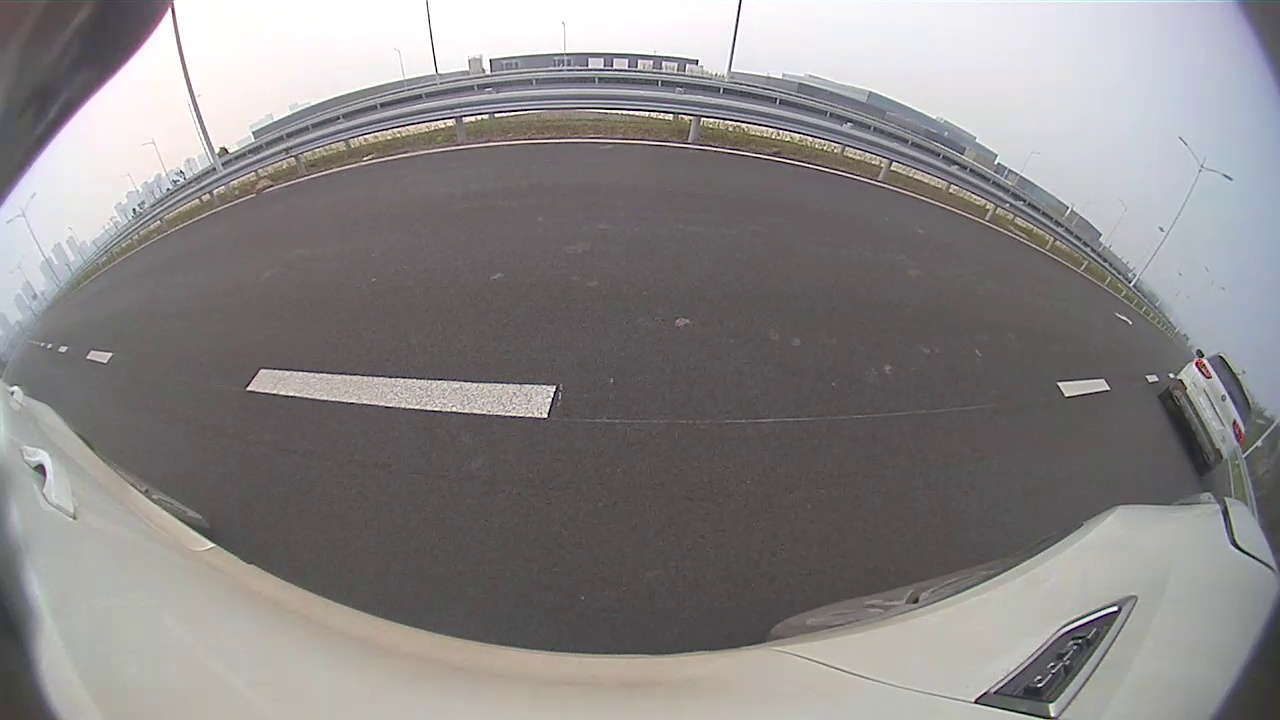car: (1156, 349, 1253, 476)
